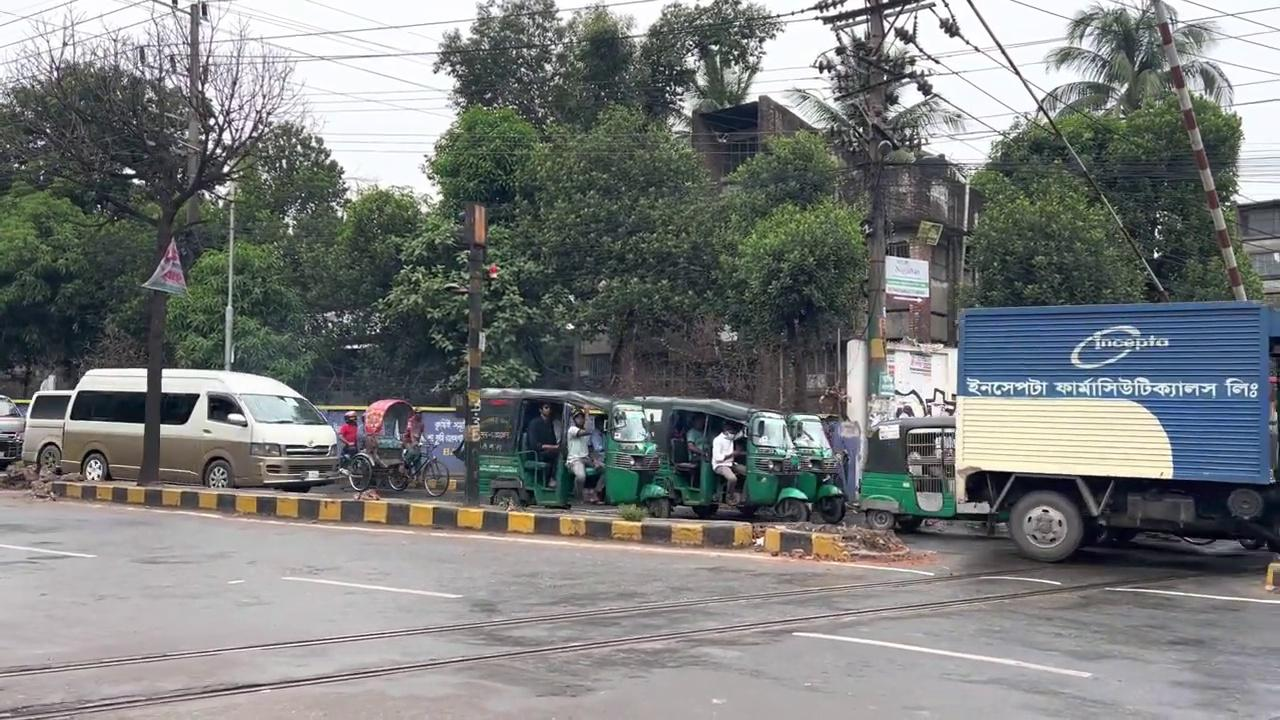Car: (51, 476, 933, 575)
Fence: (565, 409, 605, 503), (526, 401, 561, 488), (711, 420, 746, 506), (400, 412, 424, 479), (335, 410, 358, 474)
Garbage: (134, 2, 207, 486), (1149, 0, 1248, 300), (461, 200, 486, 506), (183, 2, 205, 224), (223, 183, 237, 370)
Rickshaw: (952, 299, 1278, 561)
